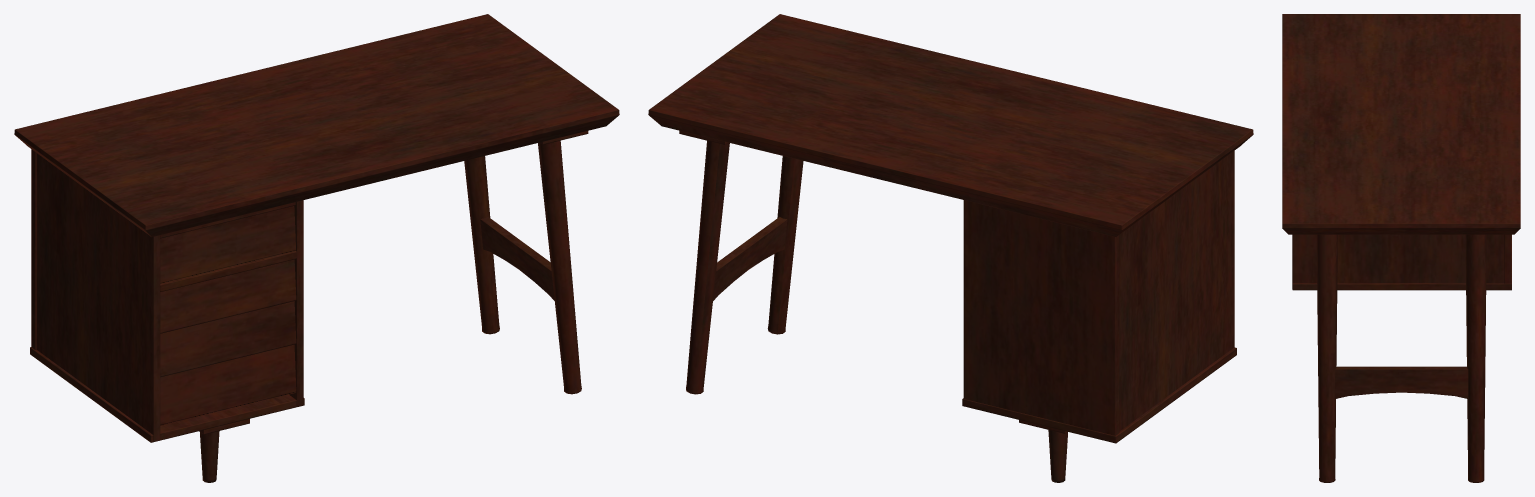
Rendered from ventura_mid_century_writing_desk.glb.
3 views of the same model, side by side, from view 1: azimuth 30°, elevation 25°; view 2: azimuth 150°, elevation 25°; view 3: azimuth 270°, elevation 25° (orthographic). The views are drawn at different scales.
Parts seen in each view (by area): view 1: RootNode; view 2: RootNode; view 3: RootNode.
Part boxes in pixels (box(x1,y1,x2,y2)): RootNode: box(14, 14, 619, 482); RootNode: box(648, 14, 1253, 482); RootNode: box(1282, 14, 1520, 482).
Bounding box in the file's own units: 1.28 × 0.7575 × 0.6122.
1 material, 1 textured.
